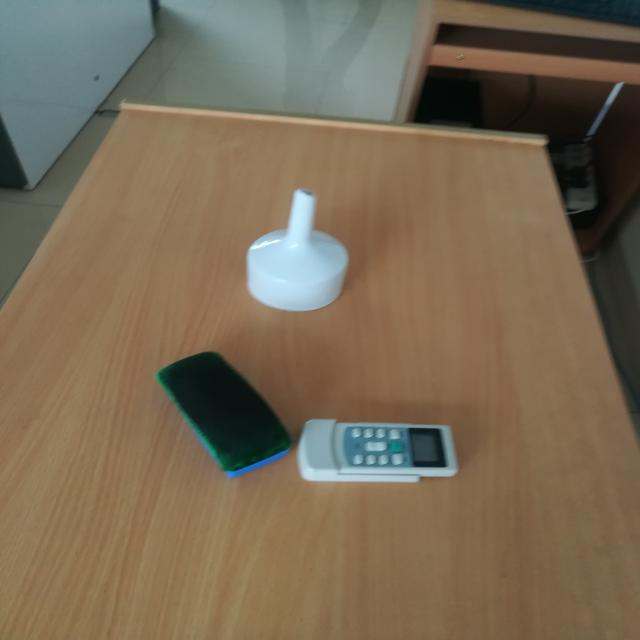Buchner_Funnel: (226, 150, 382, 327)
